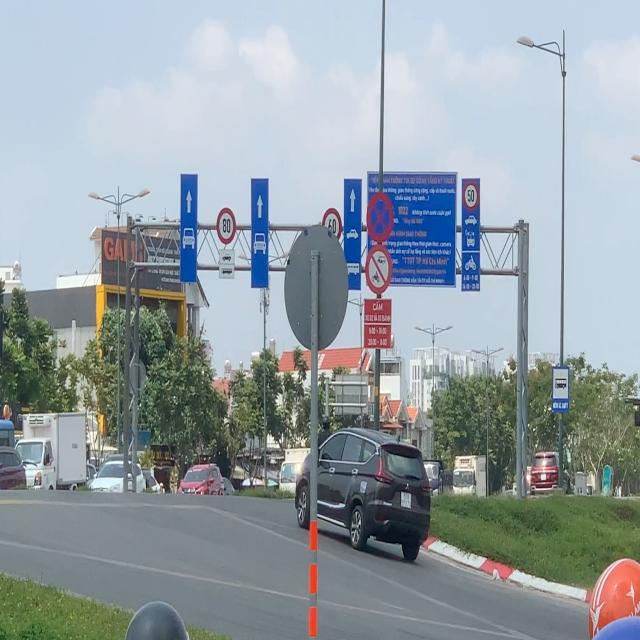Ben xe buyt: (551, 366, 570, 414)
Cam con lai: (366, 245, 392, 293)
Cam dung va do: (366, 192, 394, 243)
Toc do toi da: (216, 207, 236, 245), (322, 207, 342, 242), (462, 180, 480, 211)
